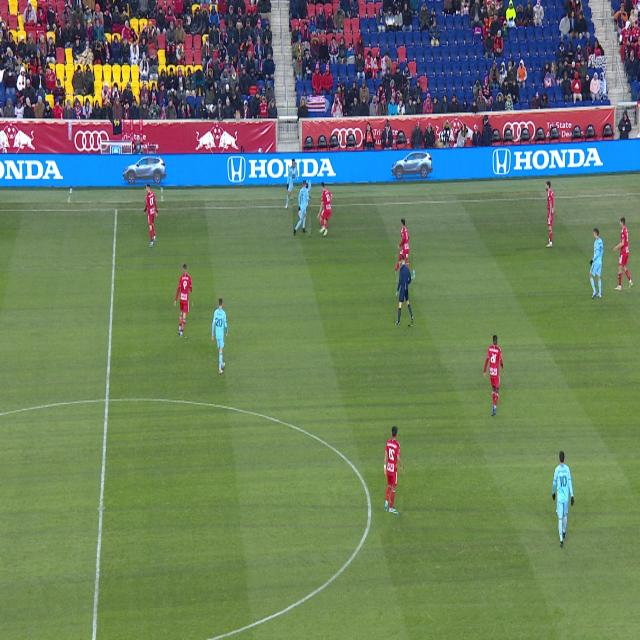player: (553, 452, 574, 547), (384, 427, 403, 512), (484, 335, 503, 415), (614, 217, 632, 290), (175, 264, 192, 337), (212, 298, 228, 373), (398, 218, 416, 279), (589, 228, 604, 298), (294, 180, 311, 236), (317, 183, 333, 235), (145, 184, 157, 246), (285, 159, 299, 209), (545, 181, 554, 247), (297, 200, 299, 207), (395, 275, 397, 279)
referee: (395, 254, 413, 325)
